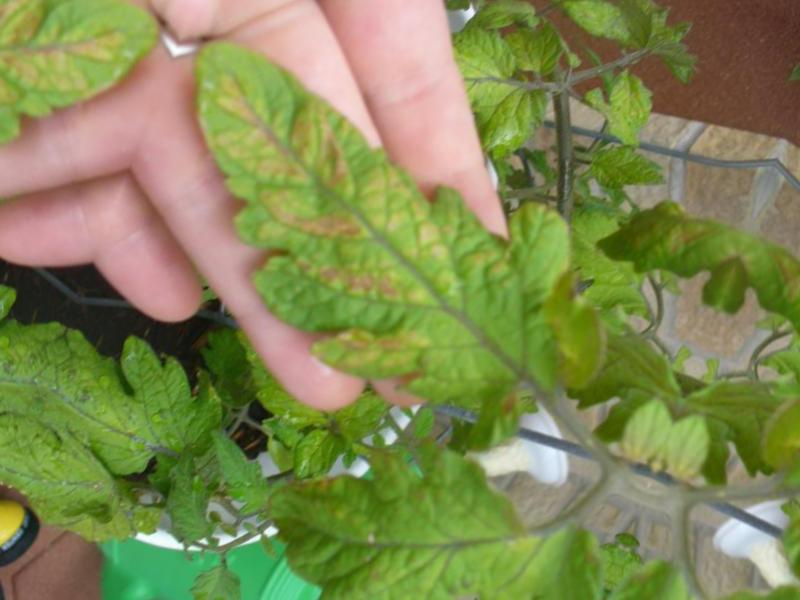Tomato leaf bacterial spot: (100, 13, 668, 471), (230, 376, 617, 600)
